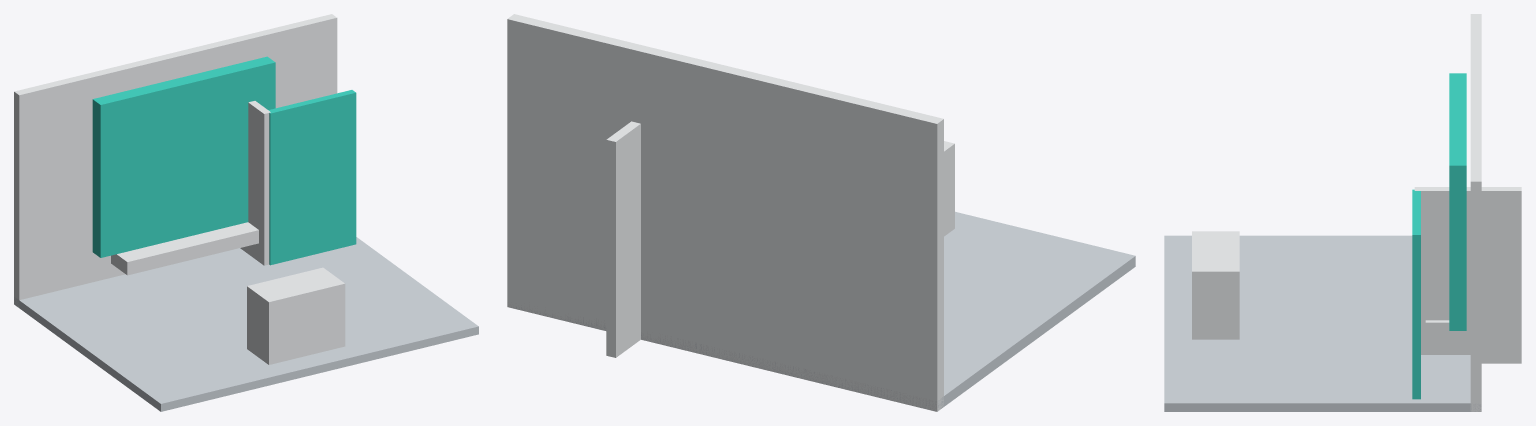
3 renders of one model, left to right at view 1: azimuth 30°, elevation 25°; view 2: azimuth 150°, elevation 25°; view 3: azimuth 270°, elevation 25°, orthographic. The views are drawn at different scales.
Visible parts, largest first — view 1: Exhibition Booth Concept; view 2: Exhibition Booth Concept; view 3: Exhibition Booth Concept.
Boxes of the visible parts, box(x1,y1,x2,y2) form: Exhibition Booth Concept: box(14, 14, 478, 411); Exhibition Booth Concept: box(507, 14, 1135, 411); Exhibition Booth Concept: box(1164, 14, 1521, 411).
Size of the model in its own units: 5 by 3.2 by 4.51.
